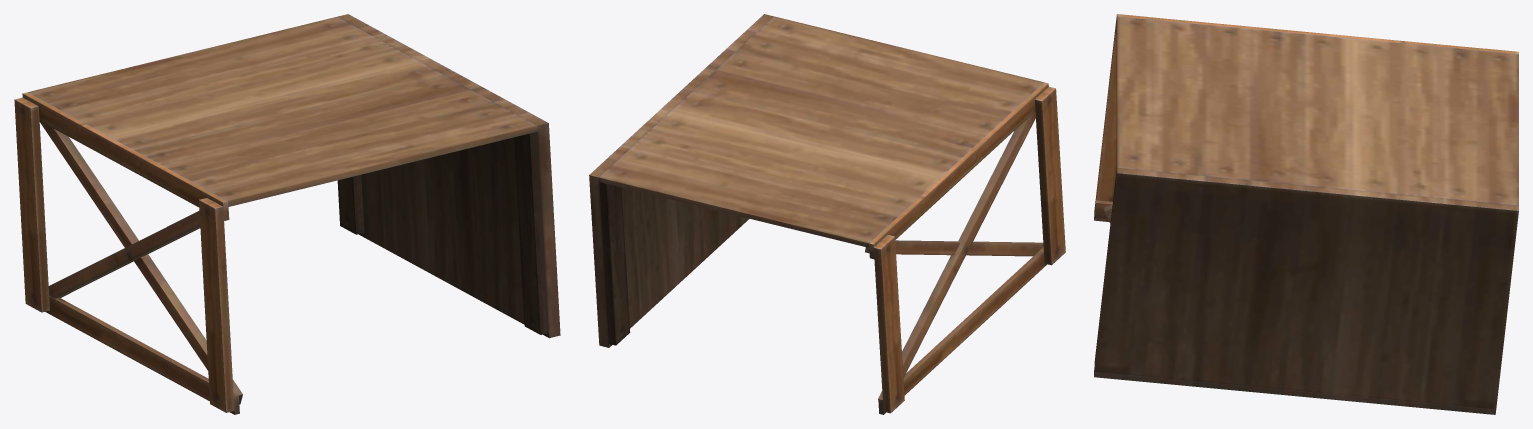
File: woodenbox_hole_top.fbx
3 renders of one model, left to right at view 1: azimuth 30°, elevation 25°; view 2: azimuth 150°, elevation 25°; view 3: azimuth 270°, elevation 25°, orthographic. The views are drawn at different scales.
Visible parts, largest first — view 1: woodenbox_hole_top; view 2: woodenbox_hole_top; view 3: woodenbox_hole_top.
Boxes of the visible parts, x1,y1,x2,y2 form: woodenbox_hole_top: (14, 14, 560, 414); woodenbox_hole_top: (589, 14, 1065, 414); woodenbox_hole_top: (1094, 14, 1518, 414).
Bounding box in the file's own units: 867 × 599 × 955.
